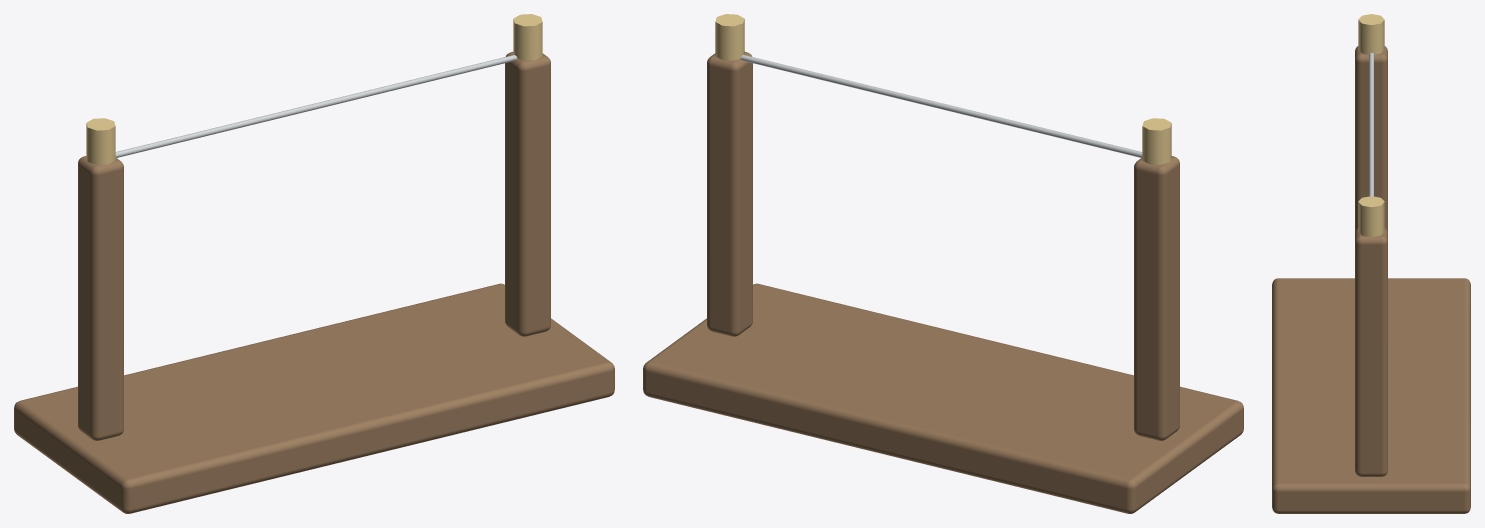
File: geotechnical-soil-testing-laboratory-taut-wire-trimmin-64ed3963__39032.glb
The picture shows the model from 3 angles, left to right: view 1: azimuth 30°, elevation 25°; view 2: azimuth 150°, elevation 25°; view 3: azimuth 270°, elevation 25°; orthographic projection. The views are drawn at different scales.
Parts seen in each view (by area): view 1: taut-wire-trimming-bow; view 2: taut-wire-trimming-bow; view 3: taut-wire-trimming-bow.
Part boxes in pixels (left/top/right/bottom): taut-wire-trimming-bow: left=14, top=14, right=614, bottom=513; taut-wire-trimming-bow: left=643, top=14, right=1243, bottom=513; taut-wire-trimming-bow: left=1272, top=14, right=1470, bottom=513.
Size of the model in its own units: 0.3 by 0.2 by 0.12.
